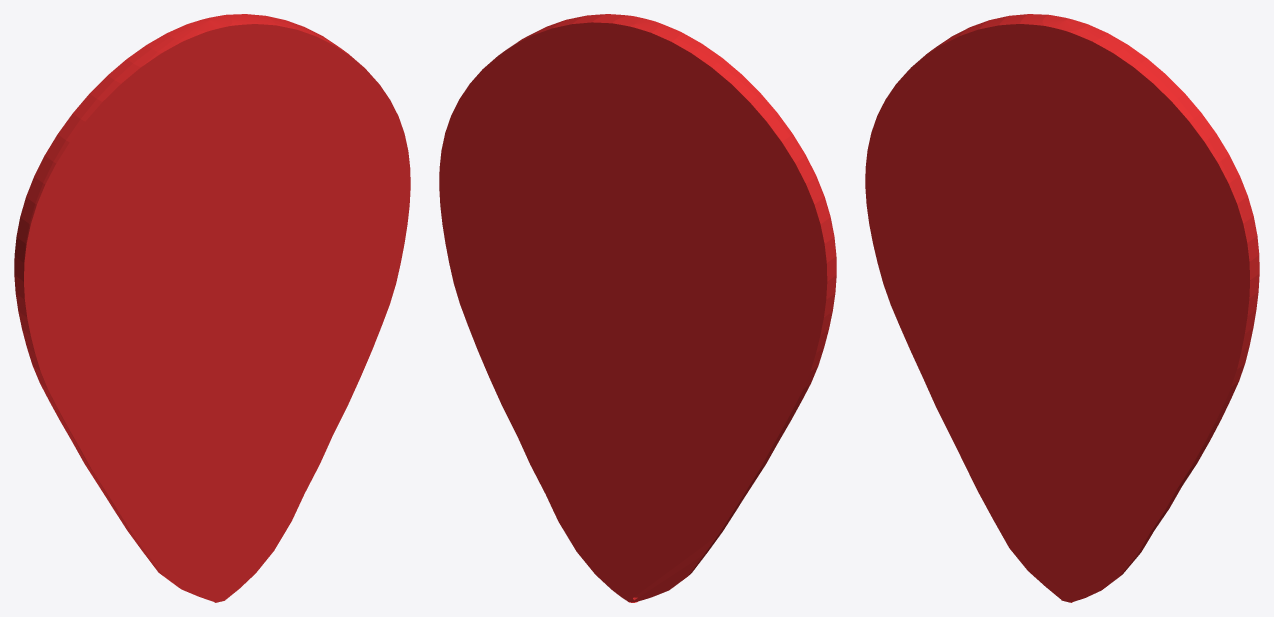
The model's file is OutlineBest.fbx.
3 renders of one model, left to right at view 1: azimuth 30°, elevation 25°; view 2: azimuth 150°, elevation 25°; view 3: azimuth 330°, elevation 25°, orthographic.
Visible parts, largest first — view 1: Sphere; view 2: Sphere; view 3: Sphere.
Part boxes in pixels (x1,y1,x2,y2): Sphere: (14, 14, 410, 602); Sphere: (439, 14, 836, 602); Sphere: (865, 14, 1259, 602).
Bounding box in the file's own units: 191 × 273 × 10.78.
